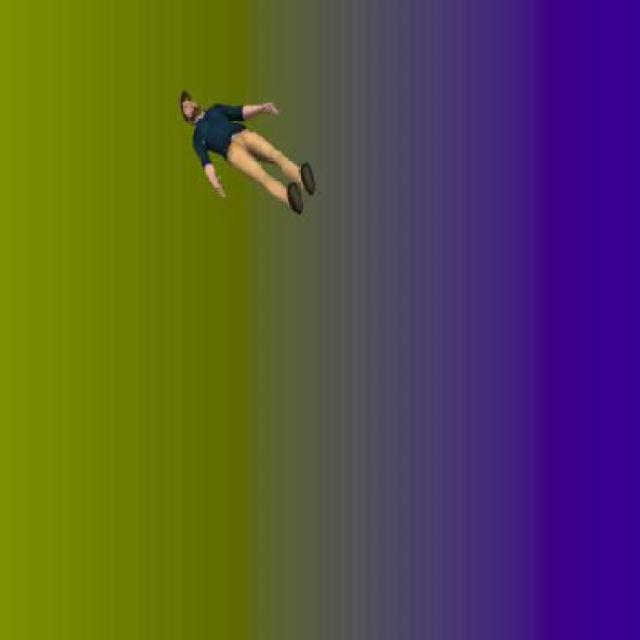Person: (175, 82, 319, 216)
